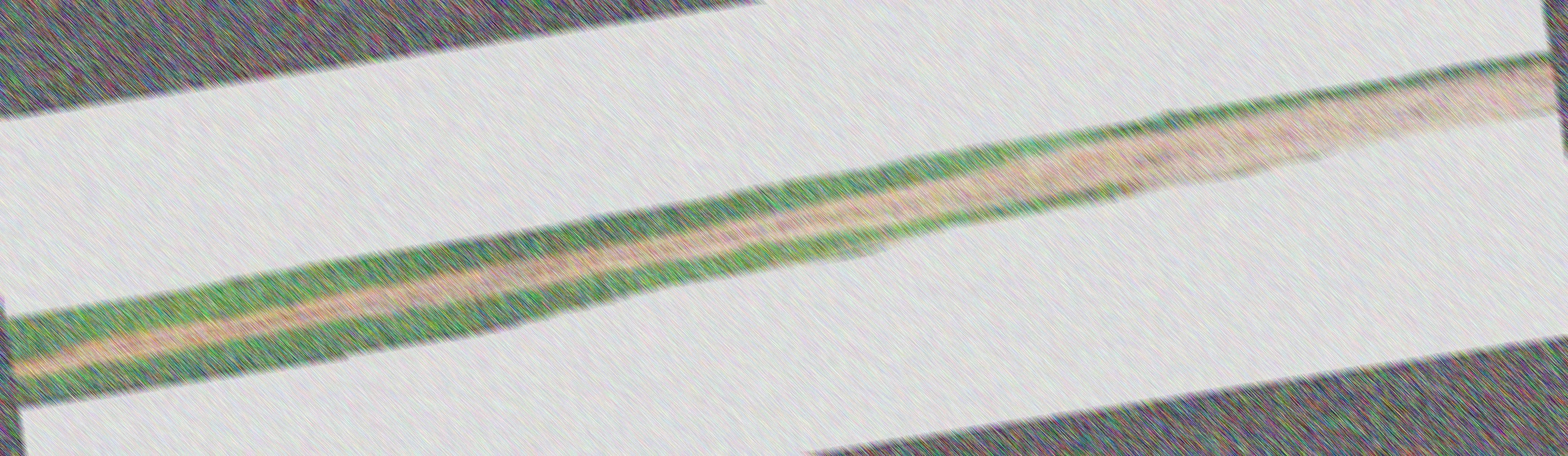Leaf_Blast: (2, 186, 1563, 268)
